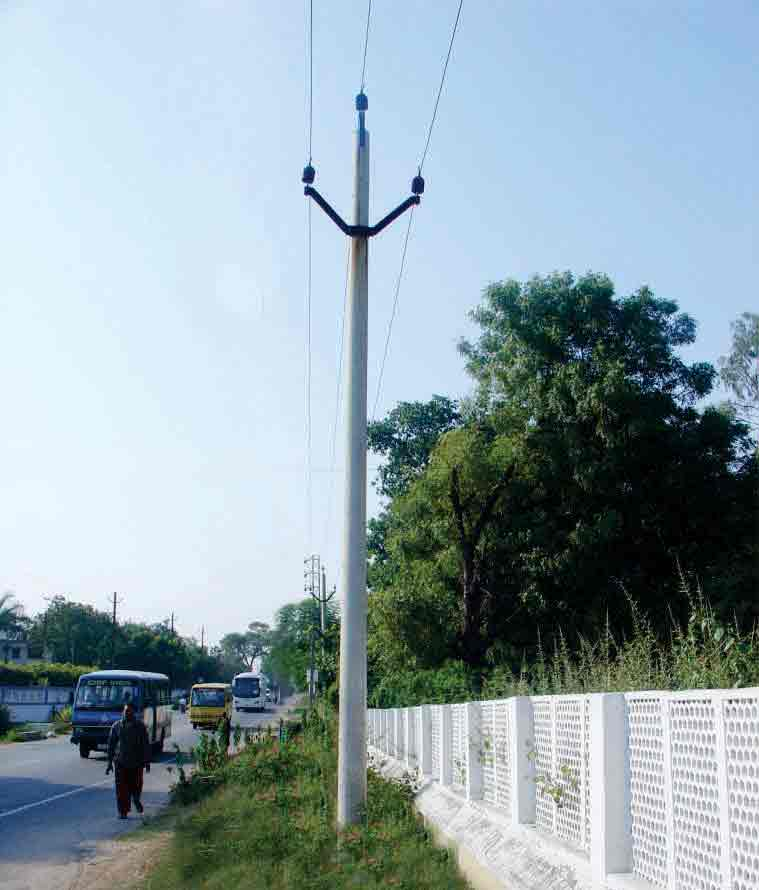car: (53, 653, 180, 760), (178, 677, 238, 735), (225, 662, 279, 715)
pole: (284, 71, 434, 846)
